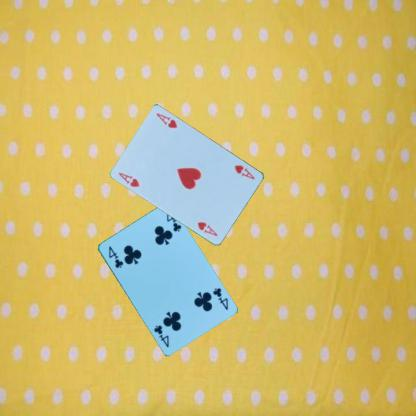4c: (210, 285, 229, 311), (106, 243, 124, 269)
Ah: (232, 162, 256, 181), (116, 170, 141, 188)
